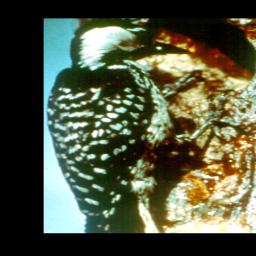Woodpecker: (46, 20, 250, 233)
